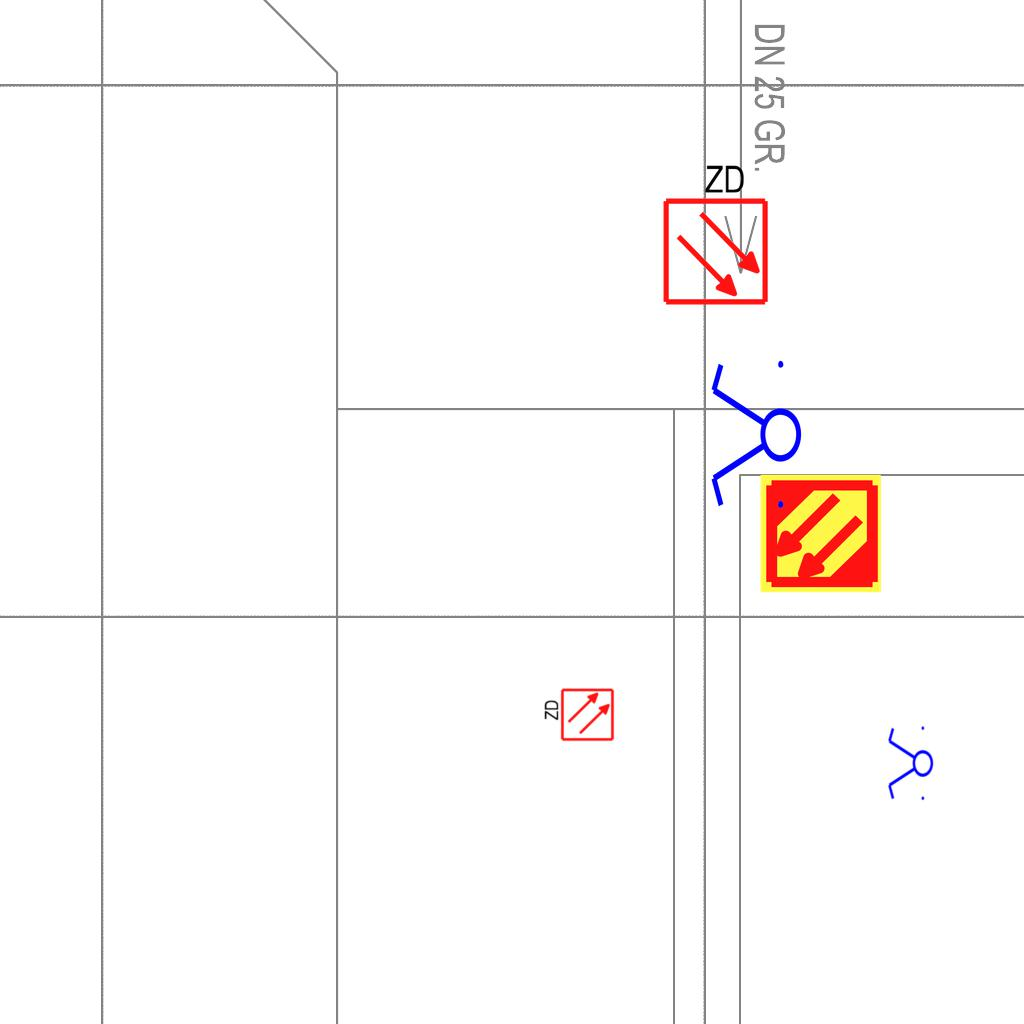ASR_Ansaugrauchmelder: (758, 471, 883, 596)
Serienschalter: (707, 352, 803, 520), (886, 722, 934, 806)
ZD_Melder_in_Zwischendecke_mit_Revisionsoeffnung_mind_40_x_40_cm: (657, 158, 771, 307), (541, 687, 615, 744)
